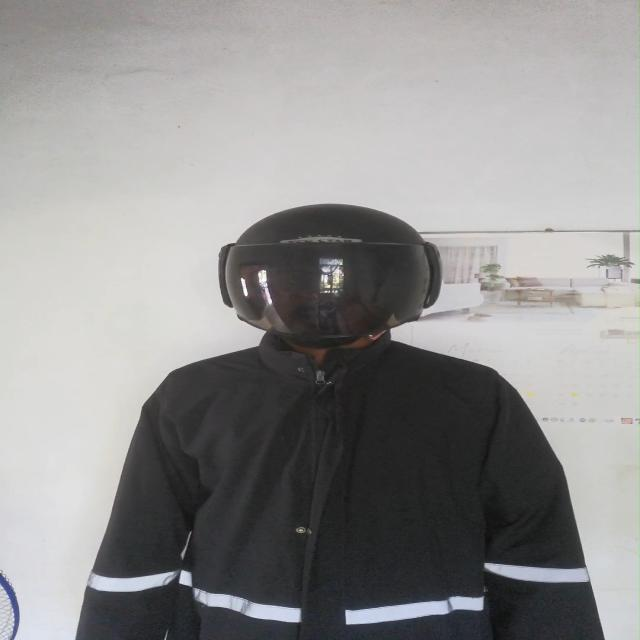Helmet_Wearer: (184, 194, 462, 368)
Jacket_Wearer: (40, 322, 625, 640)
Person: (68, 201, 633, 639)
